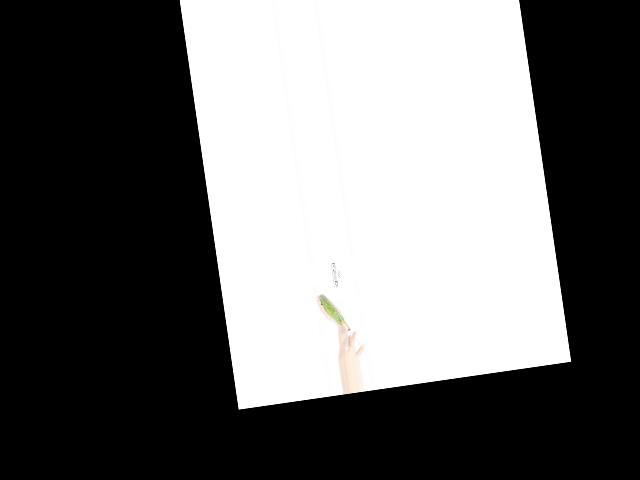cucumber: (318, 292, 345, 327)
